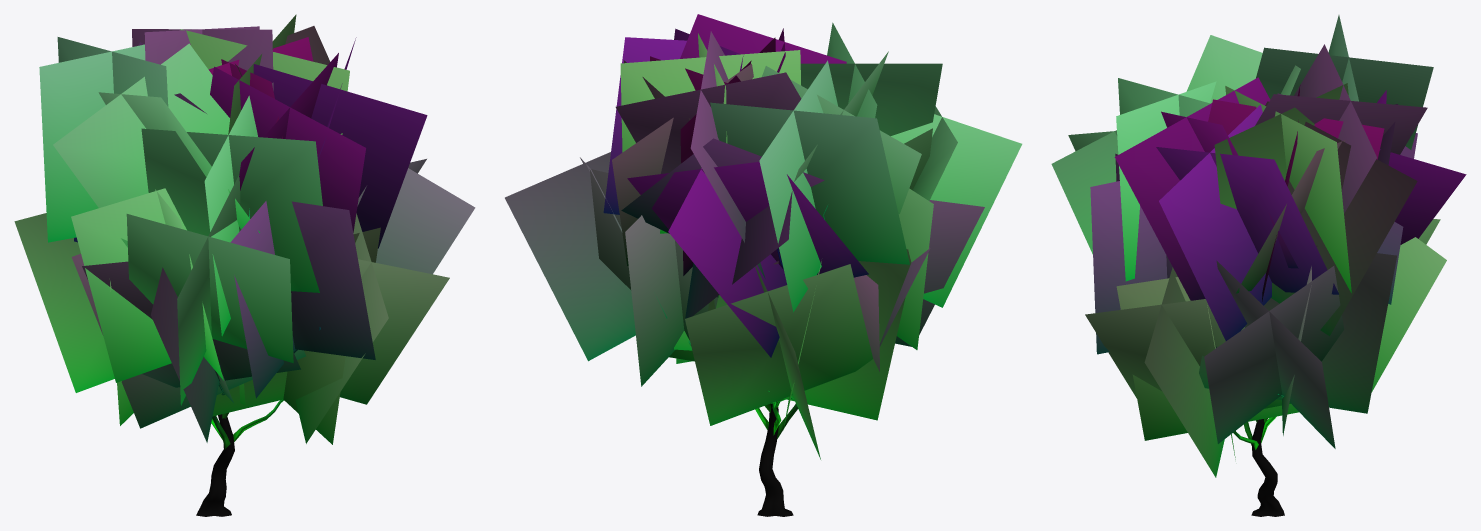
File: M_P1_Tree_8.fbx
The picture shows the model from 3 angles, left to right: view 1: azimuth 30°, elevation 25°; view 2: azimuth 150°, elevation 25°; view 3: azimuth 270°, elevation 25°; orthographic projection. The views are drawn at different scales.
Parts seen in each view (by area): view 1: M_Tree_1_8; view 2: M_Tree_1_8; view 3: M_Tree_1_8.
Boxes of the visible parts, left/top/right/bottom form: M_Tree_1_8: left=14, top=14, right=475, bottom=516; M_Tree_1_8: left=505, top=14, right=1022, bottom=516; M_Tree_1_8: left=1051, top=15, right=1466, bottom=516.
Size of the model in its own units: 691 by 781 by 656.
